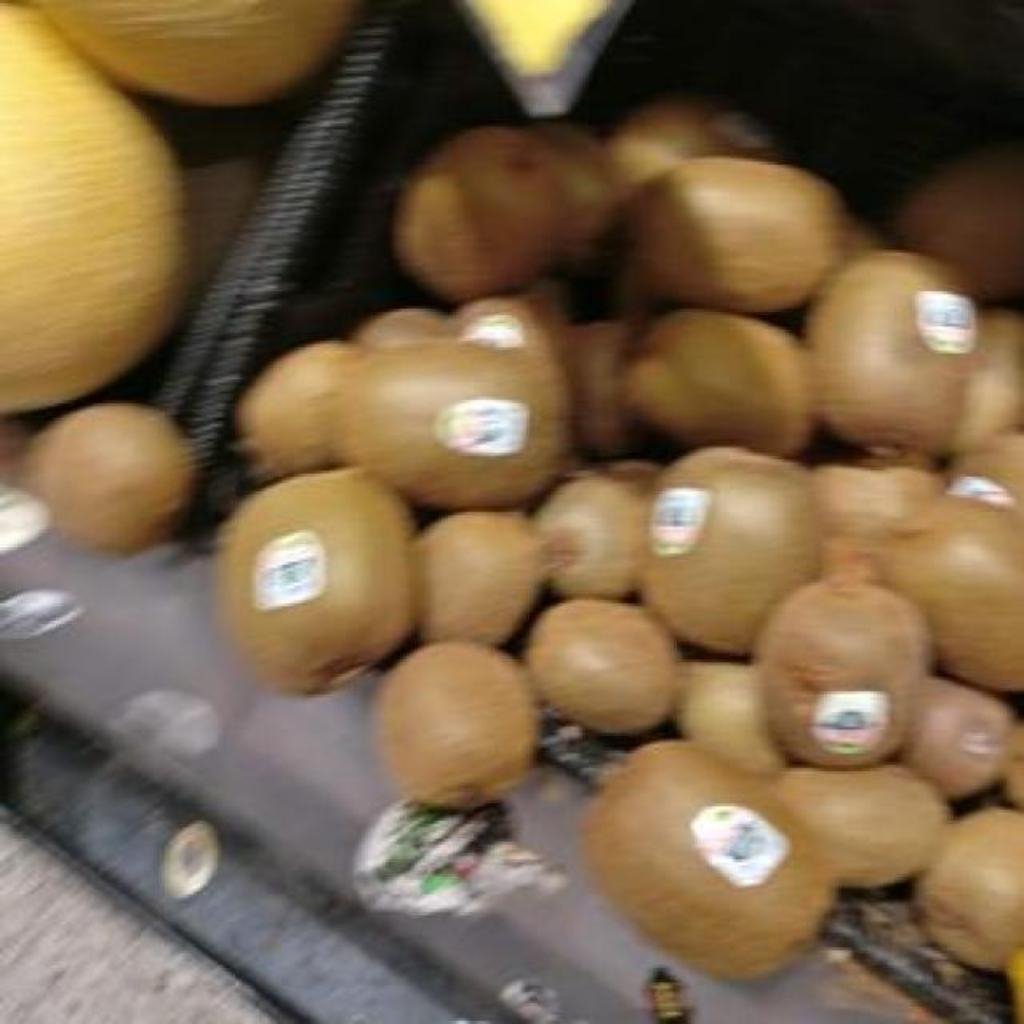kiwi: (588, 742, 832, 977), (220, 468, 414, 693), (394, 124, 618, 301), (344, 338, 568, 509), (642, 446, 818, 653), (628, 156, 846, 311), (754, 580, 932, 767), (808, 252, 974, 451), (626, 310, 812, 455), (380, 644, 538, 807), (24, 404, 190, 553), (888, 512, 1024, 691), (774, 766, 948, 885), (526, 600, 678, 733), (916, 808, 1024, 967), (416, 514, 542, 643), (238, 346, 359, 477), (610, 98, 774, 189), (536, 476, 646, 598), (904, 678, 1014, 799), (682, 662, 786, 773), (817, 468, 942, 541), (566, 320, 630, 451), (956, 432, 1024, 509)
